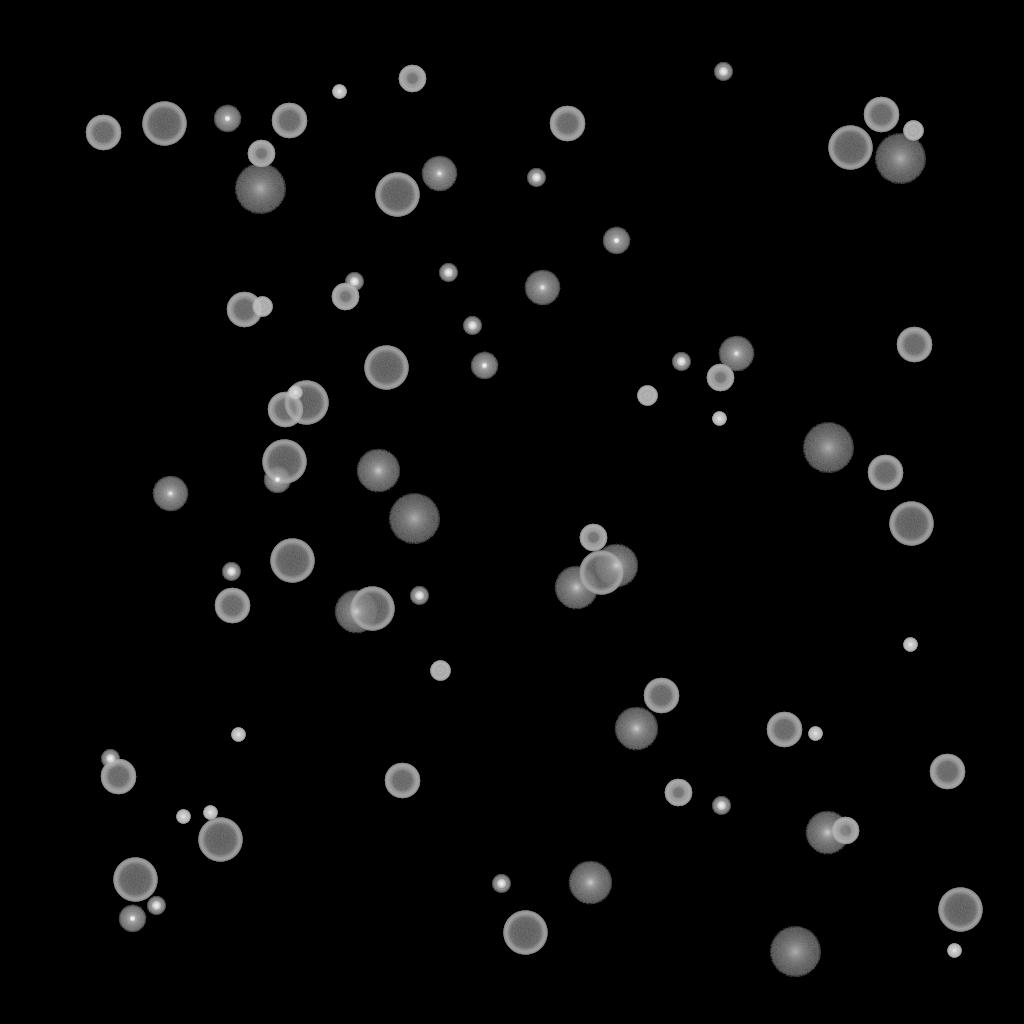depth:-10: (602, 227, 630, 255), (118, 905, 146, 933), (263, 466, 291, 494), (470, 352, 498, 380), (213, 105, 241, 133)
depth:-20: (345, 273, 363, 291), (492, 875, 510, 893), (714, 63, 732, 81), (527, 169, 545, 187), (672, 353, 690, 371), (147, 897, 165, 915), (222, 563, 240, 581), (712, 797, 730, 815), (463, 317, 481, 335), (101, 750, 119, 768), (410, 587, 428, 605), (439, 264, 457, 282)
depth:-30: (231, 728, 245, 742), (288, 386, 302, 400), (808, 727, 822, 741), (712, 412, 726, 426), (903, 638, 917, 652), (203, 806, 217, 820), (332, 85, 346, 99), (176, 810, 190, 824), (947, 944, 961, 958)
depth:-40: (252, 297, 272, 317), (430, 661, 450, 681), (903, 121, 923, 141), (637, 386, 657, 406)
depth:-50: (247, 140, 275, 168), (398, 65, 426, 93), (706, 364, 734, 392), (831, 817, 859, 845), (579, 524, 607, 552), (664, 779, 692, 807), (331, 283, 359, 311)
depth:-60: (896, 327, 932, 363), (226, 292, 262, 328), (643, 678, 679, 714), (271, 103, 307, 139), (863, 97, 899, 133), (267, 392, 303, 428), (867, 455, 903, 491), (766, 712, 802, 748), (384, 763, 420, 799), (85, 115, 121, 151), (929, 754, 965, 790), (214, 588, 250, 624), (100, 759, 136, 795), (549, 106, 585, 142)
depth:-70: (503, 911, 547, 955), (284, 381, 328, 425), (938, 888, 982, 932), (889, 502, 933, 546), (828, 126, 872, 170), (364, 346, 408, 390), (142, 102, 186, 146), (270, 539, 314, 583), (375, 173, 419, 217), (350, 587, 394, 631), (198, 818, 242, 862), (579, 551, 623, 595), (113, 858, 157, 902), (262, 440, 306, 484)
depth:0: (718, 336, 754, 372), (421, 156, 457, 192), (524, 270, 560, 306), (152, 476, 188, 512)
depth:10: (356, 449, 400, 493), (805, 811, 849, 855), (594, 544, 638, 588), (554, 566, 598, 610), (334, 590, 378, 634), (568, 861, 612, 905), (614, 707, 658, 751)
depth:20: (234, 164, 286, 214), (769, 927, 821, 977), (388, 494, 440, 544), (802, 423, 854, 473), (874, 134, 926, 184)
